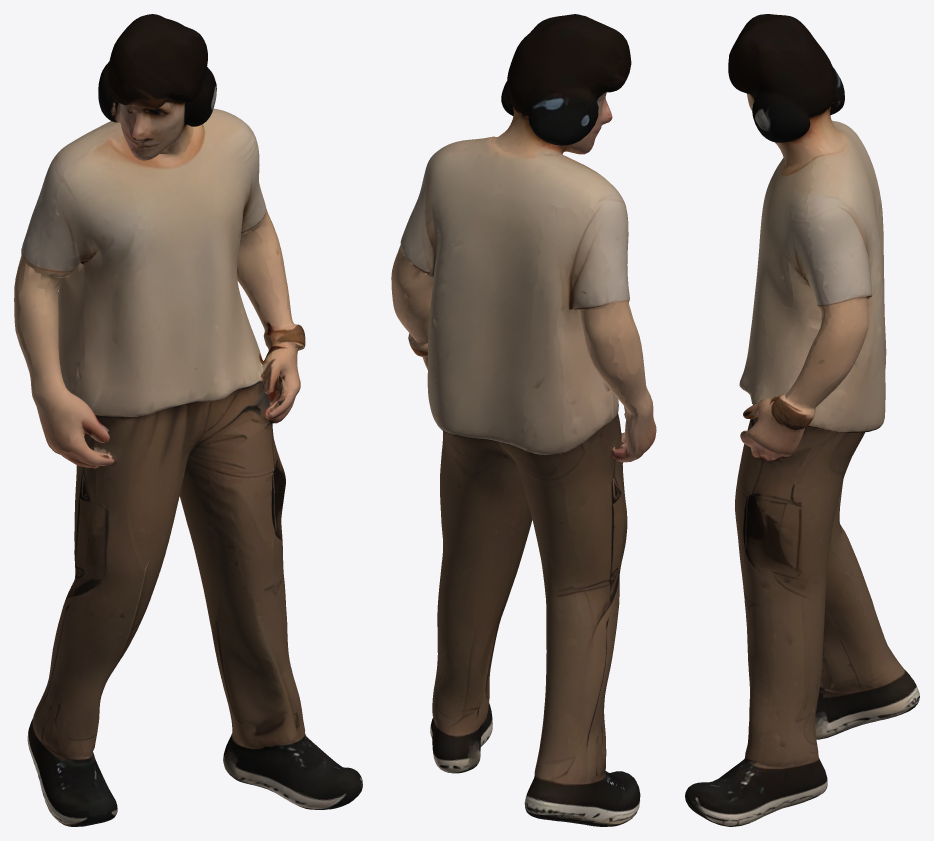
File: figure.glb
3 renders of one model, left to right at view 1: azimuth 30°, elevation 25°; view 2: azimuth 150°, elevation 25°; view 3: azimuth 270°, elevation 25°, orthographic. The views are drawn at different scales.
Parts seen in each view (by area): view 1: textured_mesh; view 2: textured_mesh; view 3: textured_mesh.
Boxes of the visible parts, box(x1,y1,x2,y2) form: textured_mesh: box(14, 14, 362, 826); textured_mesh: box(391, 14, 656, 826); textured_mesh: box(685, 14, 919, 826).
Size of the model in its own units: 0.7121 by 1.99 by 0.5745.
1 material, 1 textured.
